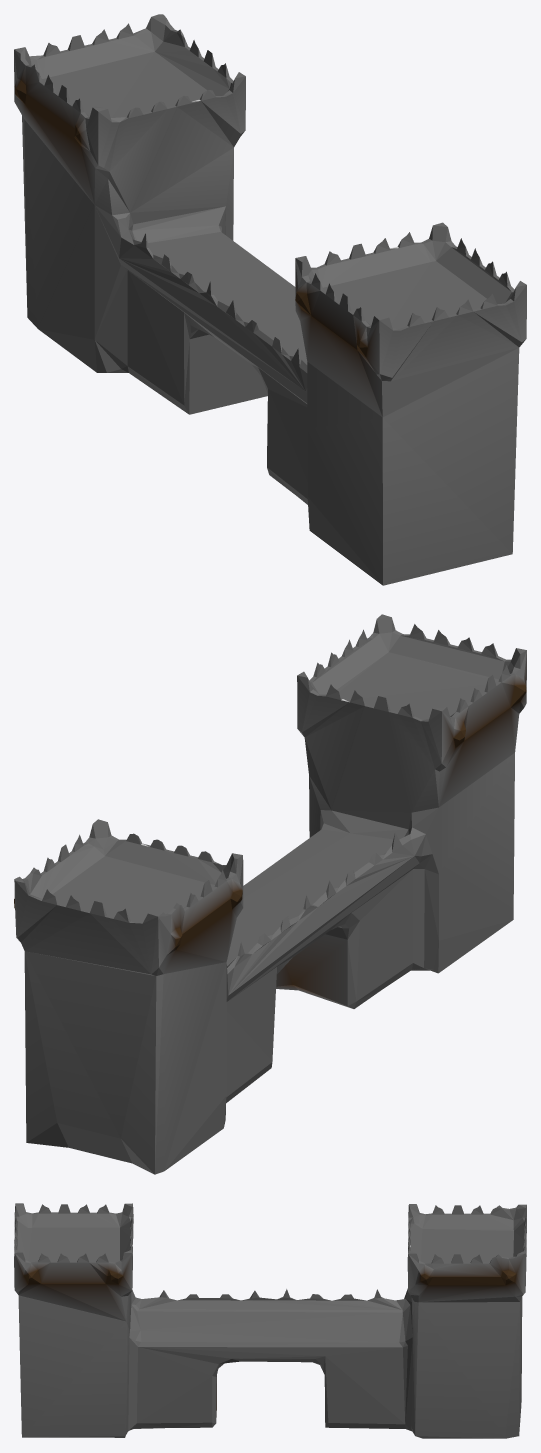
Rendered from Medieval Walls.glb.
3 views of the same model, one above another, from view 1: azimuth 30°, elevation 25°; view 2: azimuth 150°, elevation 25°; view 3: azimuth 270°, elevation 25° (orthographic). The views are drawn at different scales.
Parts seen in each view (by area): view 1: id0; view 2: id0; view 3: id0.
Boxes of the visible parts, <box> form: id0: <box>14,14,526,585</box>; id0: <box>14,614,526,1174</box>; id0: <box>14,1203,526,1438</box>.
Size of the model in its own units: 10.11 by 15.28 by 37.78.
